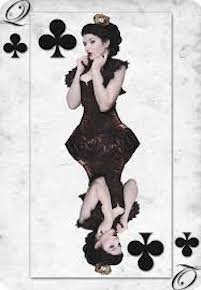QueenOfClubs: (1, 2, 201, 288)
